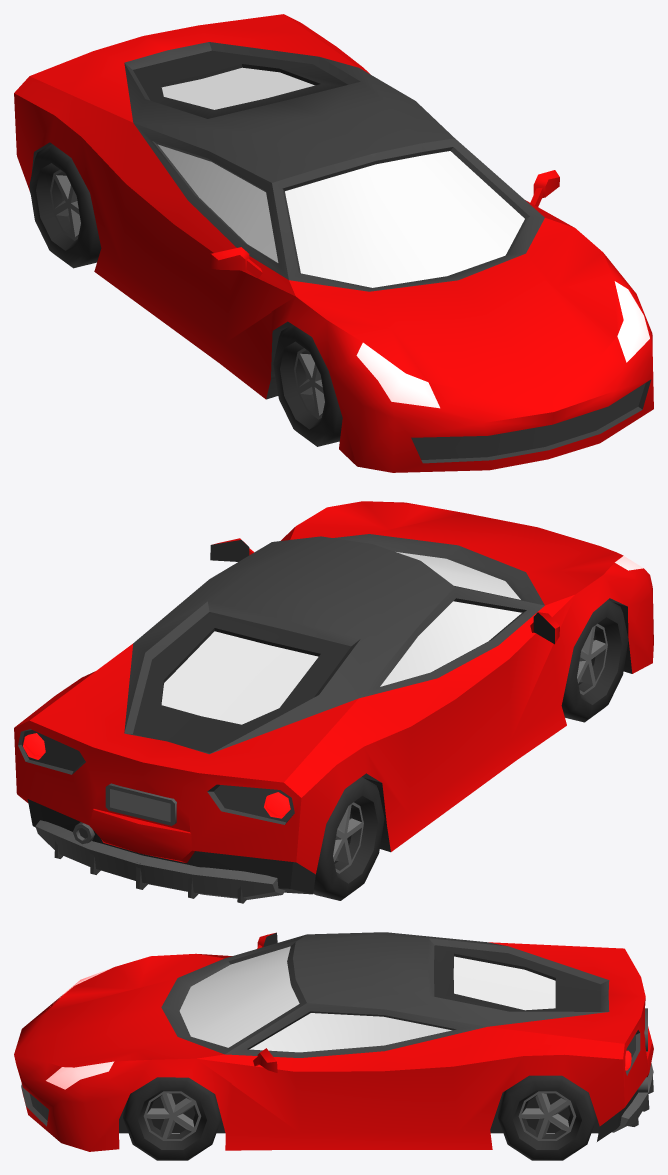
The model's file is car_cube072.glb.
The picture shows the model from 3 angles, top to bottom: view 1: azimuth 30°, elevation 25°; view 2: azimuth 150°, elevation 25°; view 3: azimuth 270°, elevation 25°; orthographic projection. The views are drawn at different scales.
Visible parts, largest first — view 1: Cube.072, Cylinder.063, Cylinder.065, Cube.073; view 2: Cube.072, Cube.151, Cylinder.063, Cylinder.065, Cube.099, Cube.073, Cylinder.053; view 3: Cube.072, Cylinder.063, Cylinder.065, Cube.151, Cube.073.
Boxes of the visible parts, <box> form: Cube.072: <box>14,14,653,472</box>; Cylinder.063: <box>29,144,101,268</box>; Cylinder.065: <box>273,324,342,446</box>; Cube.073: <box>210,170,559,278</box>; Cube.072: <box>14,501,653,894</box>; Cube.151: <box>35,820,285,899</box>; Cylinder.063: <box>313,777,384,900</box>; Cylinder.065: <box>561,599,628,722</box>; Cube.099: <box>105,783,176,825</box>; Cube.073: <box>210,538,559,644</box>; Cylinder.053: <box>23,733,290,818</box>; Cube.072: <box>14,932,653,1151</box>; Cylinder.063: <box>498,1075,596,1160</box>; Cylinder.065: <box>123,1077,221,1160</box>; Cube.151: <box>612,1063,653,1132</box>; Cube.073: <box>253,932,277,1072</box>.
Bounding box in the file's own units: 2.5 × 1.34 × 5.24.
Materials: 3 (3 with a texture image).
